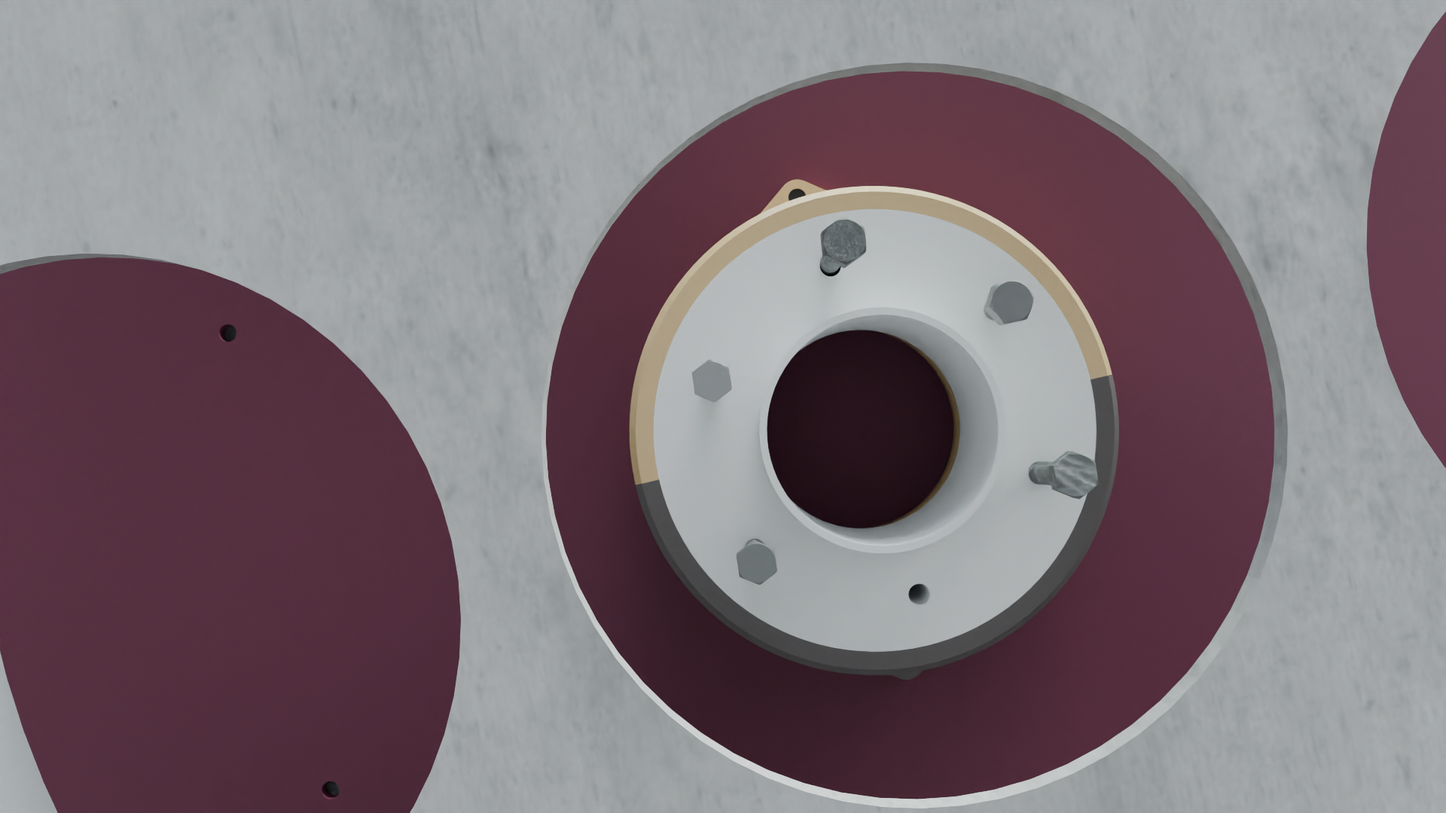bolt: (1054, 452, 1099, 499), (822, 218, 866, 265), (988, 280, 1034, 324), (736, 541, 777, 585), (692, 360, 732, 402)
